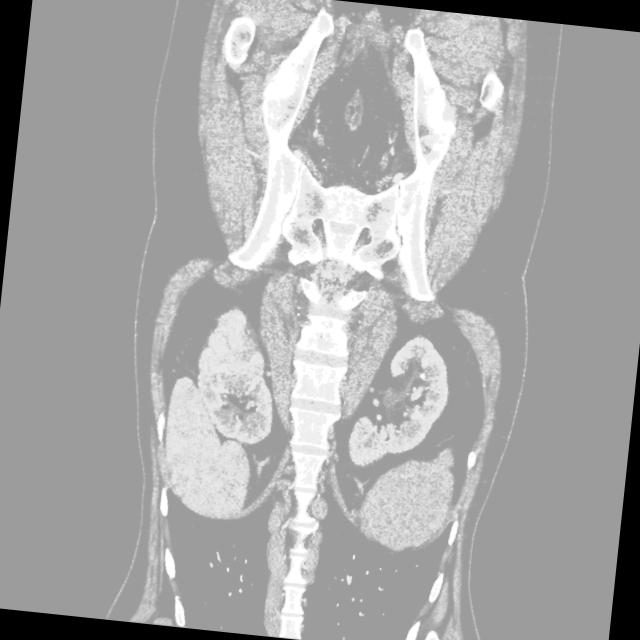TUMOR: (89, 219, 506, 493)
